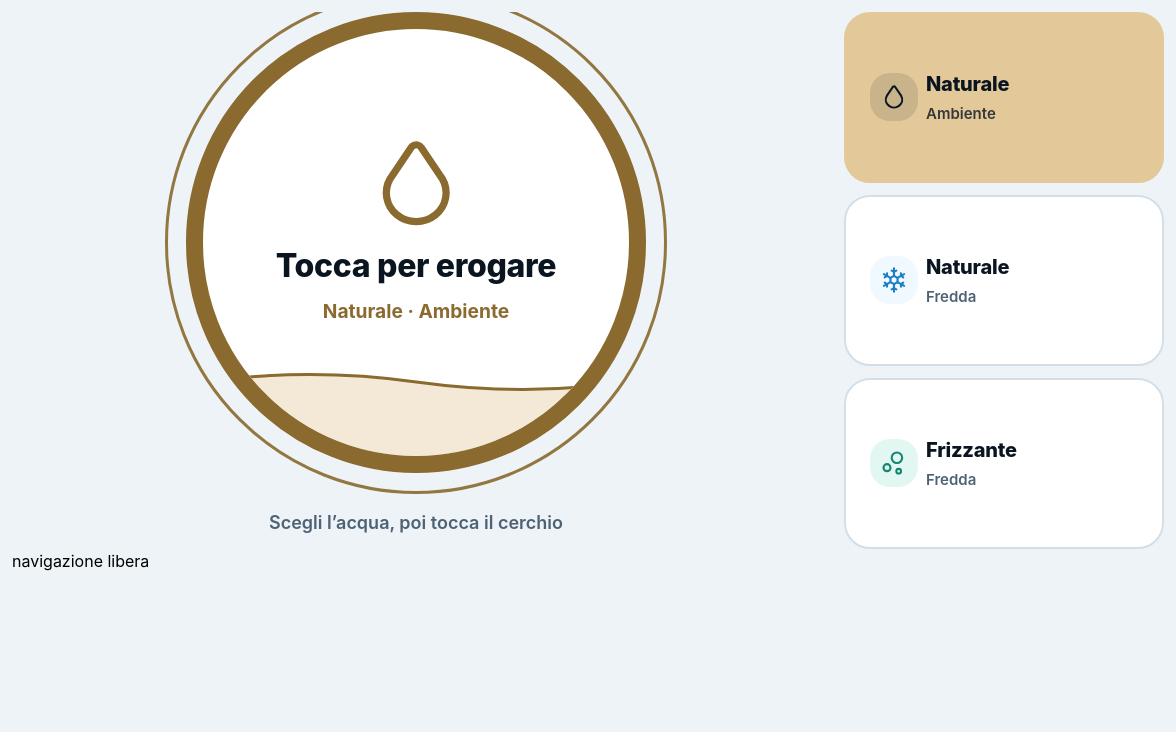
Test case: Dispenser › sums up the last dispense once the valve closes
What coordinates should you click on to do the following:
click the button "Frizzante Fredda"
I would click on:
 (1004, 463)
Its box is [844,378,1164,549].
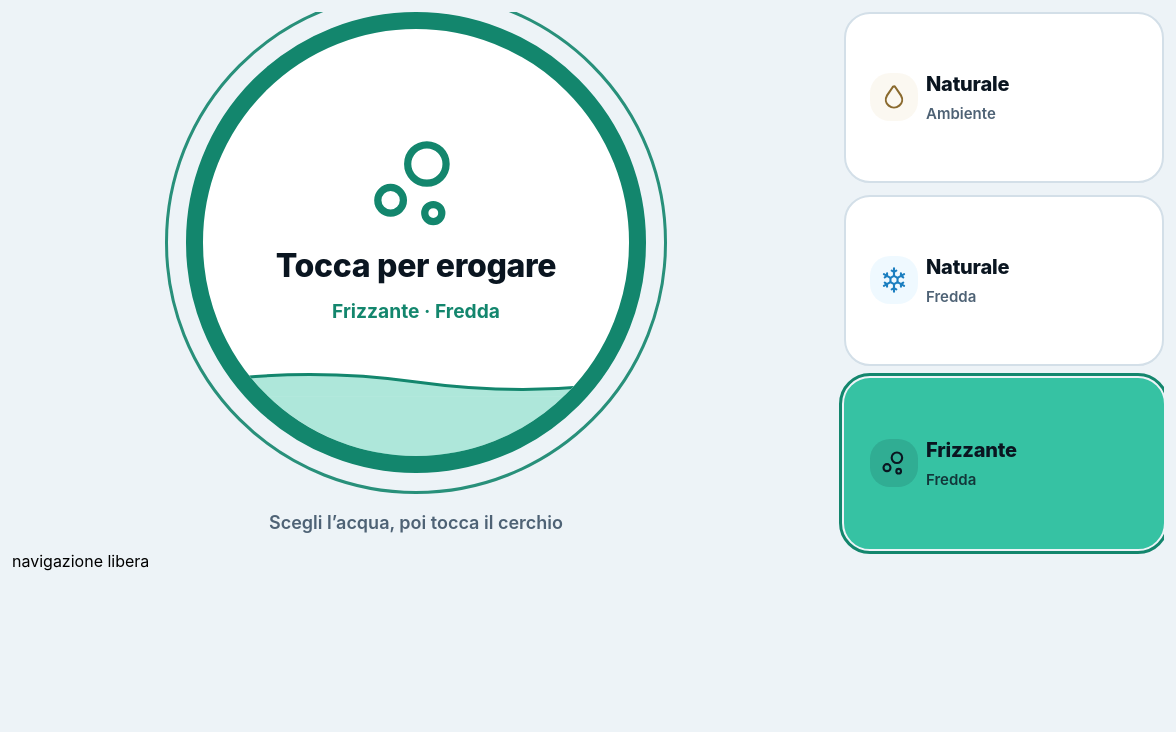
What coordinates should you click on to do the following:
click the button with aria-label "erogazione"
I would click on:
 (416, 242)
Its box is [186,12,646,473].
Wait 7000 ms
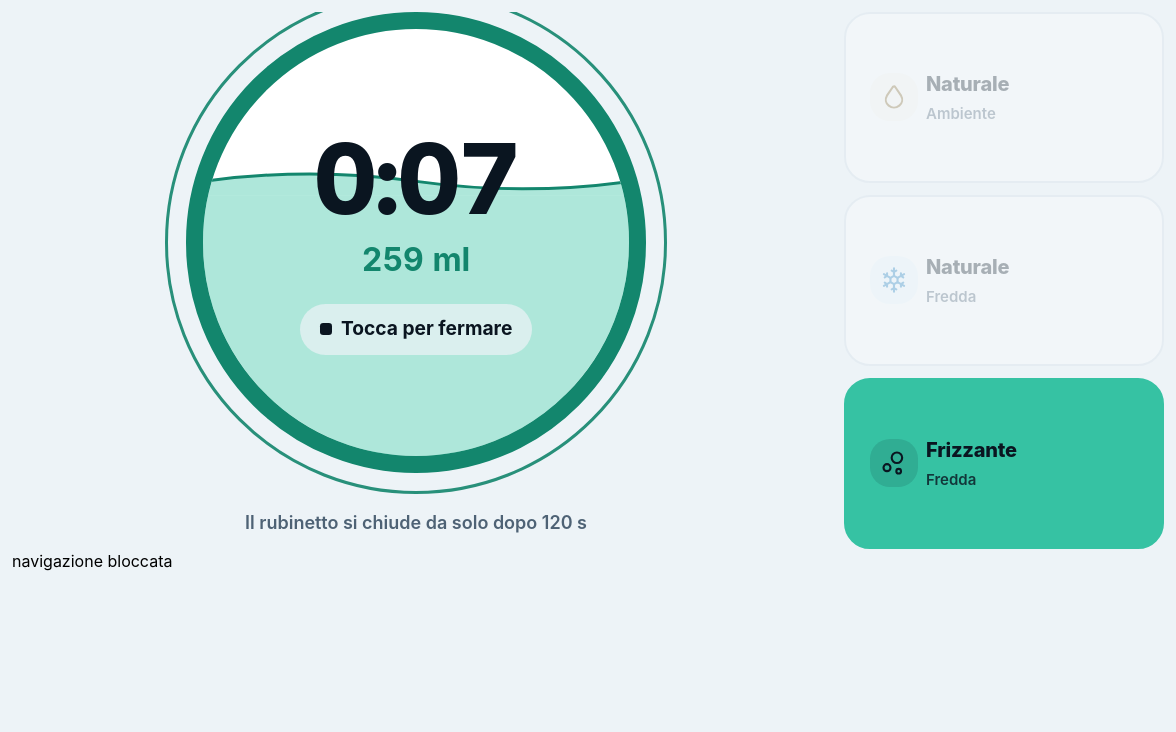
What coordinates should you click on to do the following:
click the button with aria-label "erogazione"
I would click on:
 (416, 242)
Its box is [186,12,646,473].
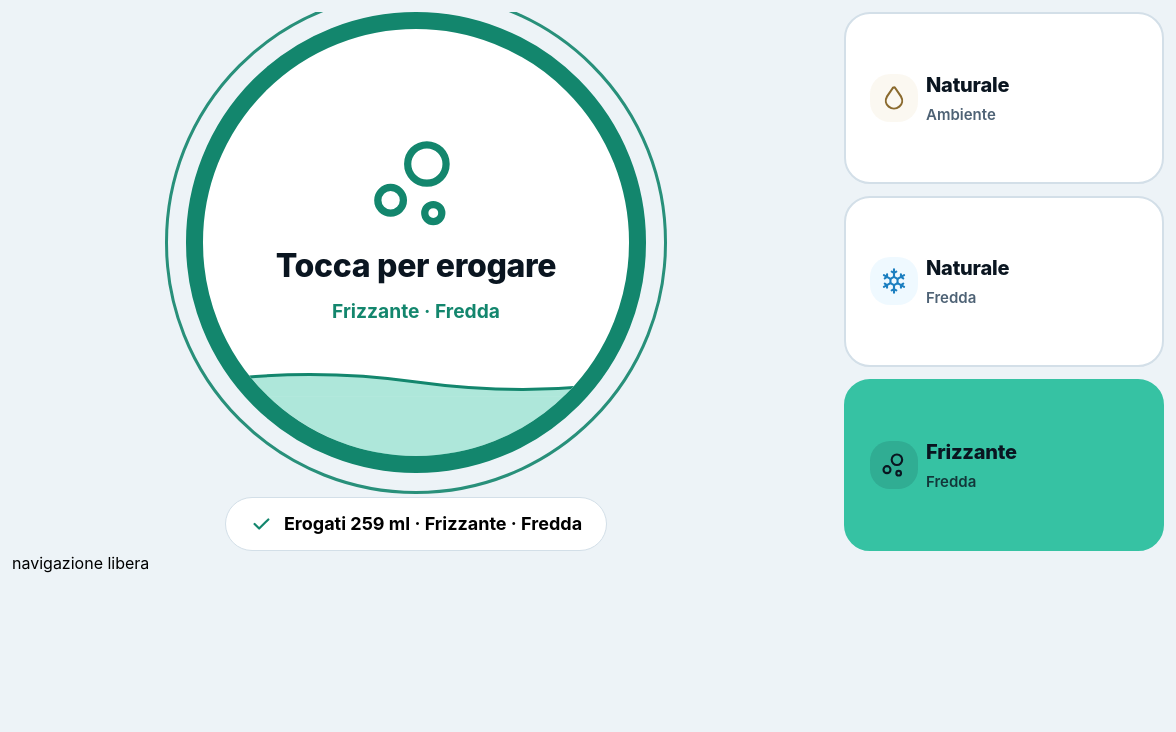
Expected: the message reads "Erogati 259 ml · Frizzante · Fredda", [284,513,582,534]
